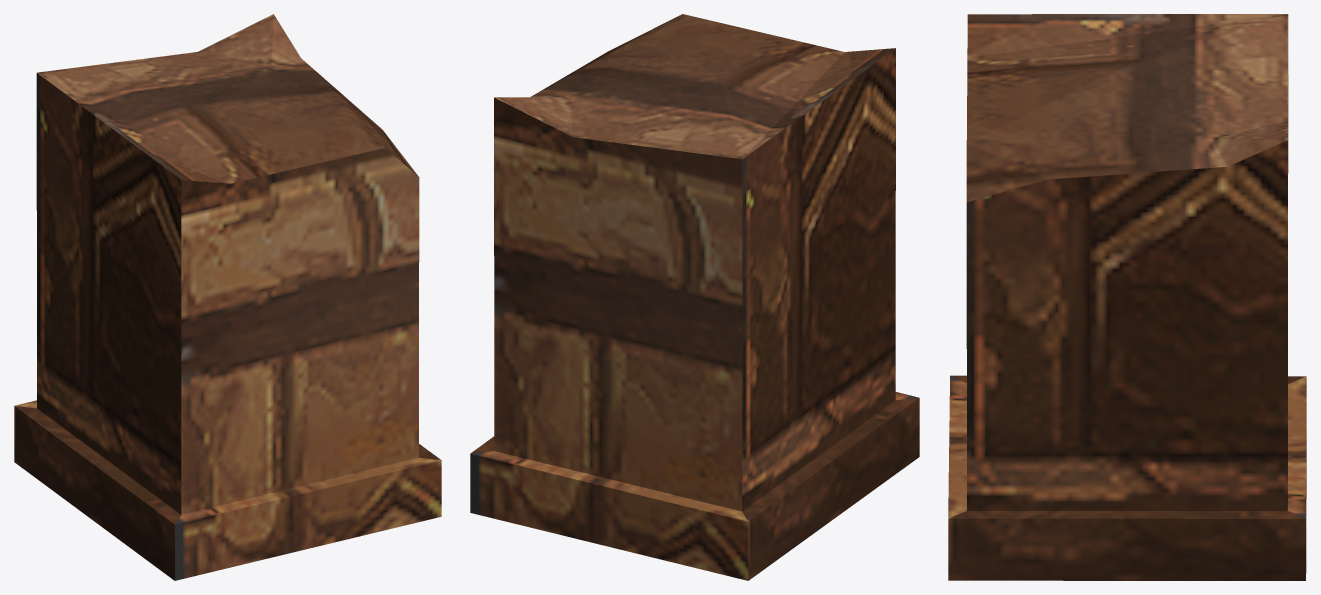
The model's file is ZhuZi08.FBX.
3 views of the same model, side by side, from view 1: azimuth 30°, elevation 25°; view 2: azimuth 150°, elevation 25°; view 3: azimuth 270°, elevation 25° (orthographic). The views are drawn at different scales.
Visible parts, largest first — view 1: ZhuZi08; view 2: ZhuZi08; view 3: ZhuZi08.
Boxes of the visible parts, box(x1,y1,x2,y2) form: ZhuZi08: box(14, 14, 441, 580); ZhuZi08: box(470, 14, 919, 580); ZhuZi08: box(948, 14, 1306, 580).
Size of the model in its own units: 38.96 by 54.93 by 41.22.
